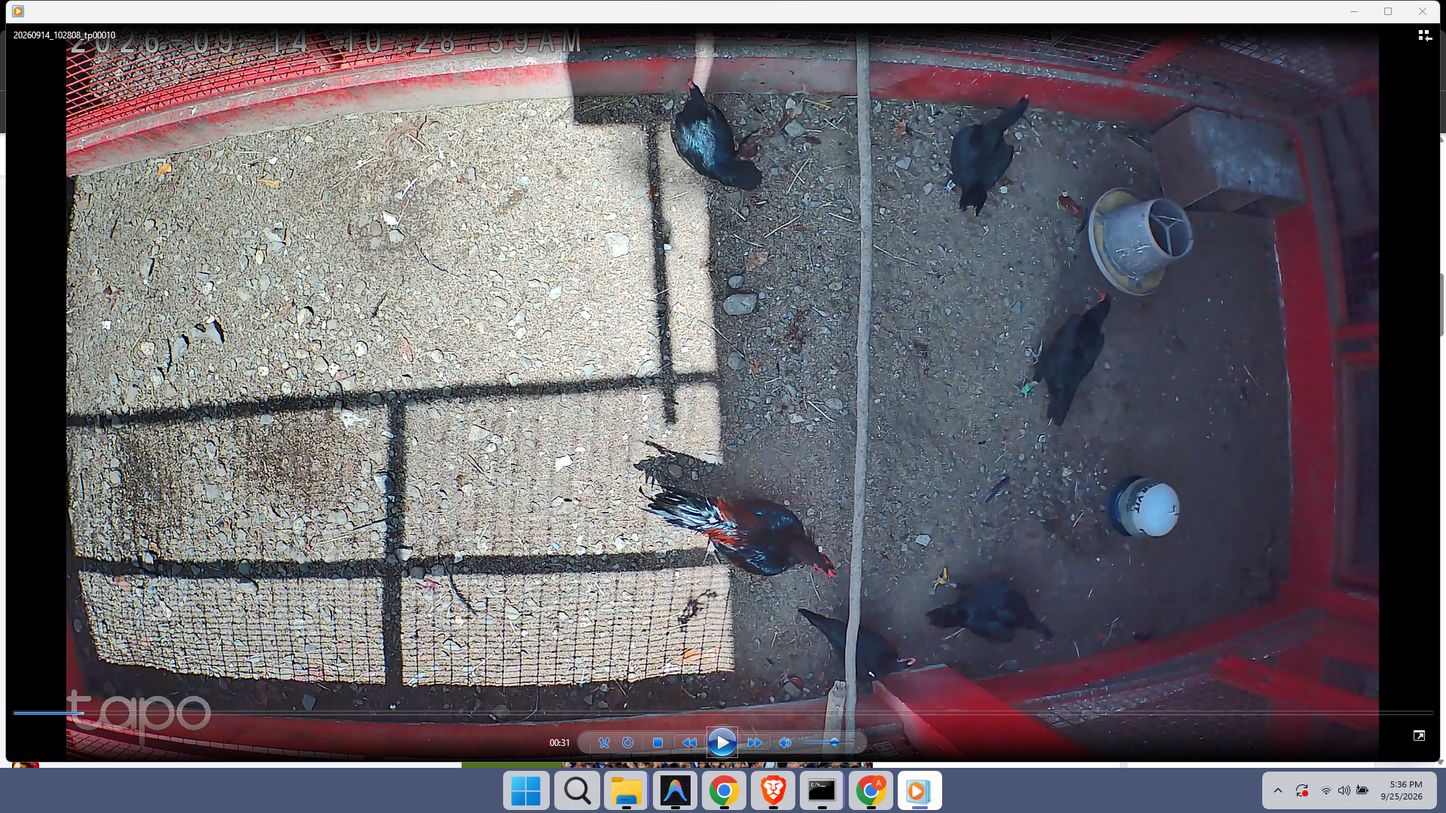Chicken: (1013, 290, 1113, 429), (942, 92, 1032, 218), (924, 570, 1058, 654), (672, 73, 762, 194), (794, 604, 916, 681)
Drinker: (1108, 473, 1183, 538)
Feeder: (1088, 184, 1196, 296)
Rooster: (638, 483, 840, 585)
